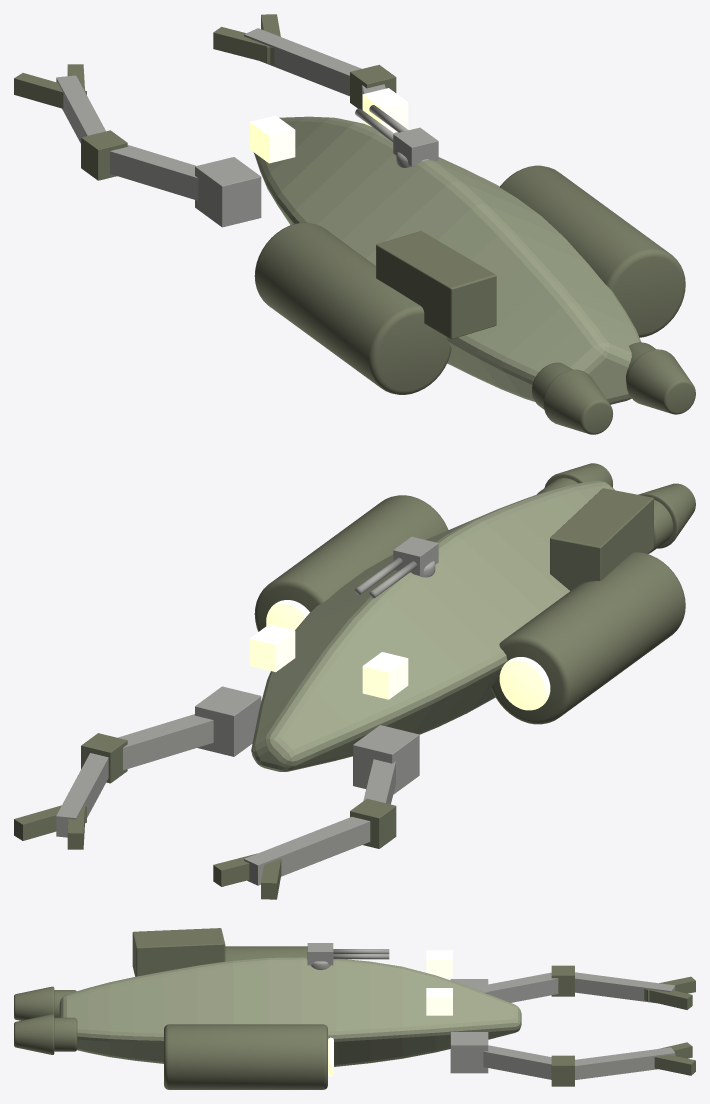
Rendered from astryn-vel-harvester.glb.
3 views of the same model, one above another, from view 1: azimuth 30°, elevation 25°; view 2: azimuth 150°, elevation 25°; view 3: azimuth 270°, elevation 25° (orthographic). The views are drawn at different scales.
Parts seen in each view (by area): view 1: hull, Cylinder, Cylinder.002, Cube.015, Cube, Cone.001, Cone, Cube.001, Cube.009, Cube.012, Cube.003, Cube.002 (+6 smaller); view 2: hull, Cylinder, Cylinder.002, Cube.015, Cube.003, Cube.006, Cube.007, Cube, Cylinder.001, Cube.009, Cube.013, Cube.012 (+11 smaller); view 3: hull, Cylinder.002, Cube.015, Cube.009, Cube.003, Cube.007, Cube.006, Cube.001, Cone.001, Cone, Cylinder, Cylinder.009 (+12 smaller).
Part boxes in pixels (left/top/right/bottom): hull: left=253, top=116, right=641, bottom=404; Cylinder: left=254, top=222, right=451, bottom=394; Cylinder.002: left=499, top=165, right=685, bottom=337; Cube.015: left=376, top=231, right=496, bottom=339; Cube: left=195, top=157, right=261, bottom=227; Cone.001: left=626, top=349, right=695, bottom=414; Cone: left=543, top=369, right=612, bottom=434; Cube.001: left=110, top=145, right=198, bottom=200; Cube.009: left=244, top=28, right=361, bottom=96; Cube.012: left=249, top=115, right=295, bottom=163; Cube.003: left=56, top=75, right=105, bottom=143; Cube.002: left=81, top=130, right=127, bottom=180; hull: left=251, top=480, right=614, bottom=771; Cylinder: left=491, top=552, right=685, bottom=724; Cylinder.002: left=254, top=495, right=448, bottom=631; Cube.015: left=550, top=488, right=653, bottom=590; Cube.003: left=244, top=817, right=370, bottom=885; Cube.006: left=195, top=686, right=261, bottom=756; Cube.007: left=118, top=714, right=213, bottom=770; Cube: left=353, top=725, right=419, bottom=794; Cylinder.001: left=499, top=657, right=550, bottom=710; Cube.009: left=56, top=753, right=108, bottom=837; Cube.013: left=249, top=624, right=295, bottom=672; Cube.012: left=362, top=652, right=408, bottom=699; hull: left=59, top=957, right=521, bottom=1066; Cylinder.002: left=164, top=1024, right=327, bottom=1089; Cube.015: left=132, top=928, right=225, bottom=976; Cube.009: left=575, top=1047, right=675, bottom=1079; Cube.003: left=575, top=972, right=675, bottom=1003; Cube.007: left=483, top=1045, right=551, bottom=1079; Cube.006: left=450, top=1032, right=488, bottom=1073; Cube.001: left=488, top=972, right=558, bottom=1002; Cone.001: left=14, top=1014, right=54, bottom=1054; Cone: left=14, top=986, right=54, bottom=1020; Cylinder: left=225, top=946, right=307, bottom=961; Cylinder.009: left=54, top=1017, right=77, bottom=1051.
Size of the model in its own units: 1.68 by 0.7635 by 4.58.
